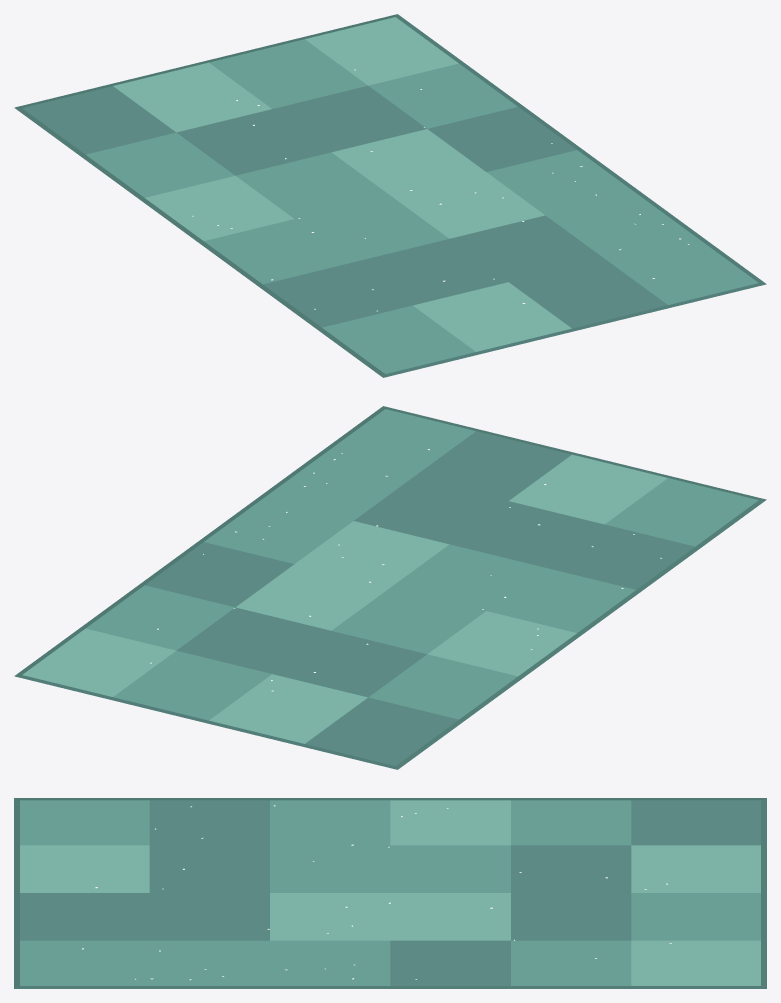
Rendered from moon-meadow.glb.
3 renders of one model, top to bottom at view 1: azimuth 30°, elevation 25°; view 2: azimuth 150°, elevation 25°; view 3: azimuth 270°, elevation 25°, orthographic.
Visible parts, largest first — view 1: moon-meadow; view 2: moon-meadow; view 3: moon-meadow.
Part boxes in pixels (x1=…): moon-meadow: x1=14, y1=14, x2=766, y2=377; moon-meadow: x1=14, y1=406, x2=766, y2=769; moon-meadow: x1=14, y1=798, x2=766, y2=988.
Bounding box in the file's own units: 60 × 0.08 × 100.
